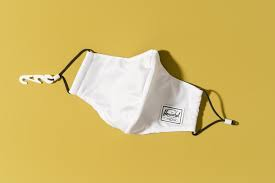FaceMask: (69, 49, 203, 135)
